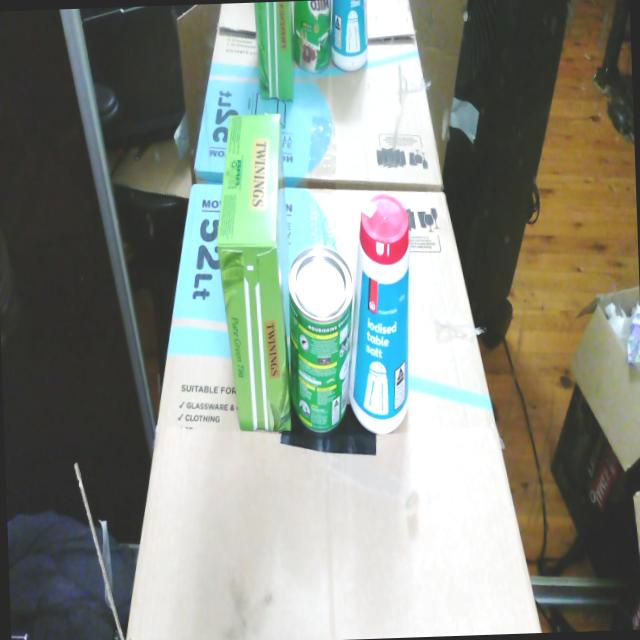nestle_milo_tin: (288, 245, 353, 433)
twinings_greentea_box: (217, 113, 291, 430)
woolworths_salt_bottle: (348, 193, 408, 434)
